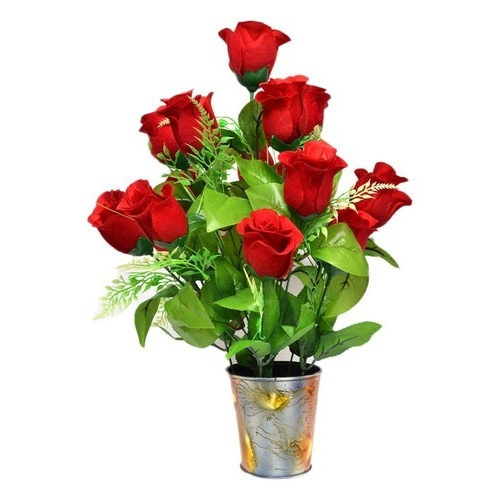flowerpot: (228, 361, 322, 477)
